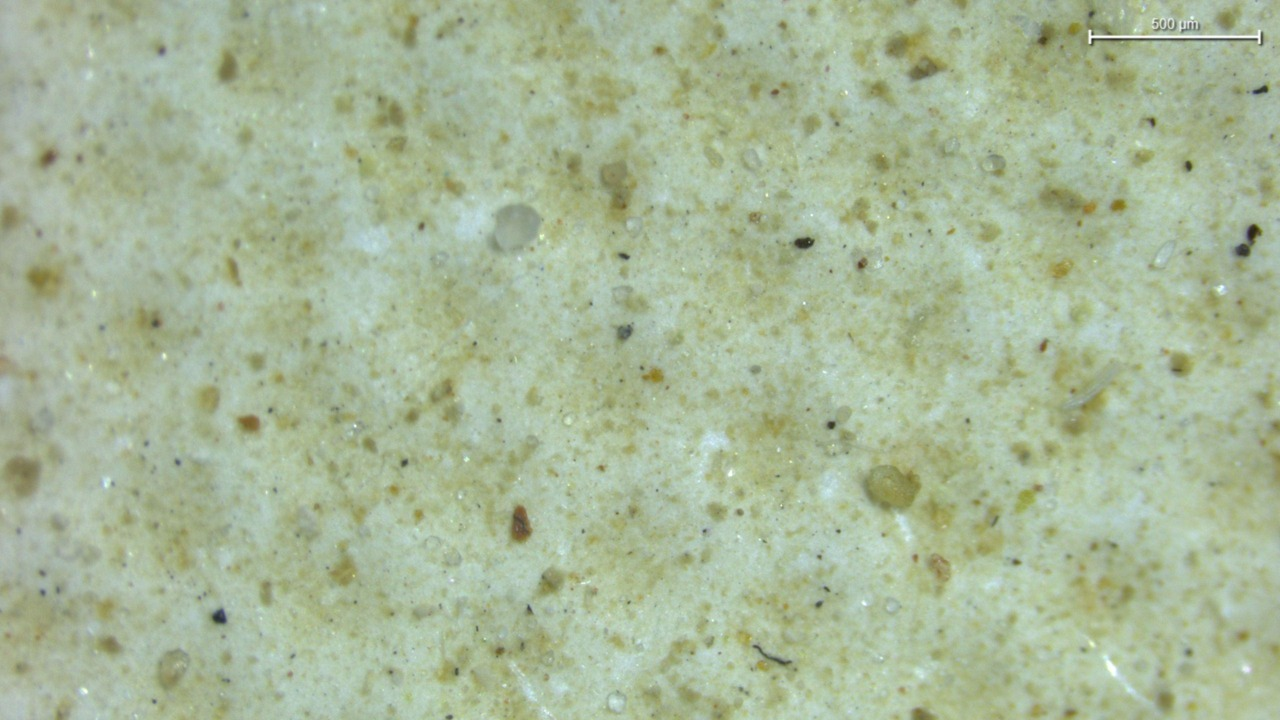microplastic_fragment: (865, 465, 921, 509), (494, 204, 541, 251)
